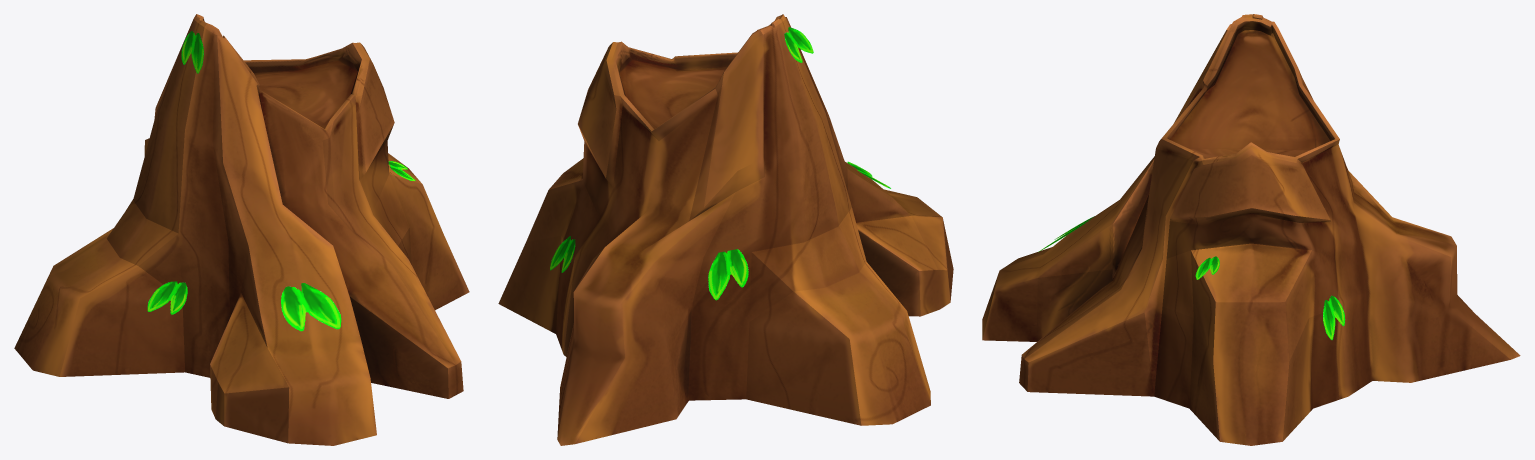
File: 10_Tronco_Verde_Claro.fbx
3 views of the same model, side by side, from view 1: azimuth 30°, elevation 25°; view 2: azimuth 150°, elevation 25°; view 3: azimuth 270°, elevation 25° (orthographic). The views are drawn at different scales.
Visible parts, largest first — view 1: 10_Tronco_Verde_Claro; view 2: 10_Tronco_Verde_Claro; view 3: 10_Tronco_Verde_Claro.
Boxes of the visible parts, x1=… form: 10_Tronco_Verde_Claro: x1=14, y1=14, x2=469, y2=445; 10_Tronco_Verde_Claro: x1=498, y1=14, x2=953, y2=445; 10_Tronco_Verde_Claro: x1=982, y1=14, x2=1520, y2=445.
Bounding box in the file's own units: 194 × 143 × 226.
